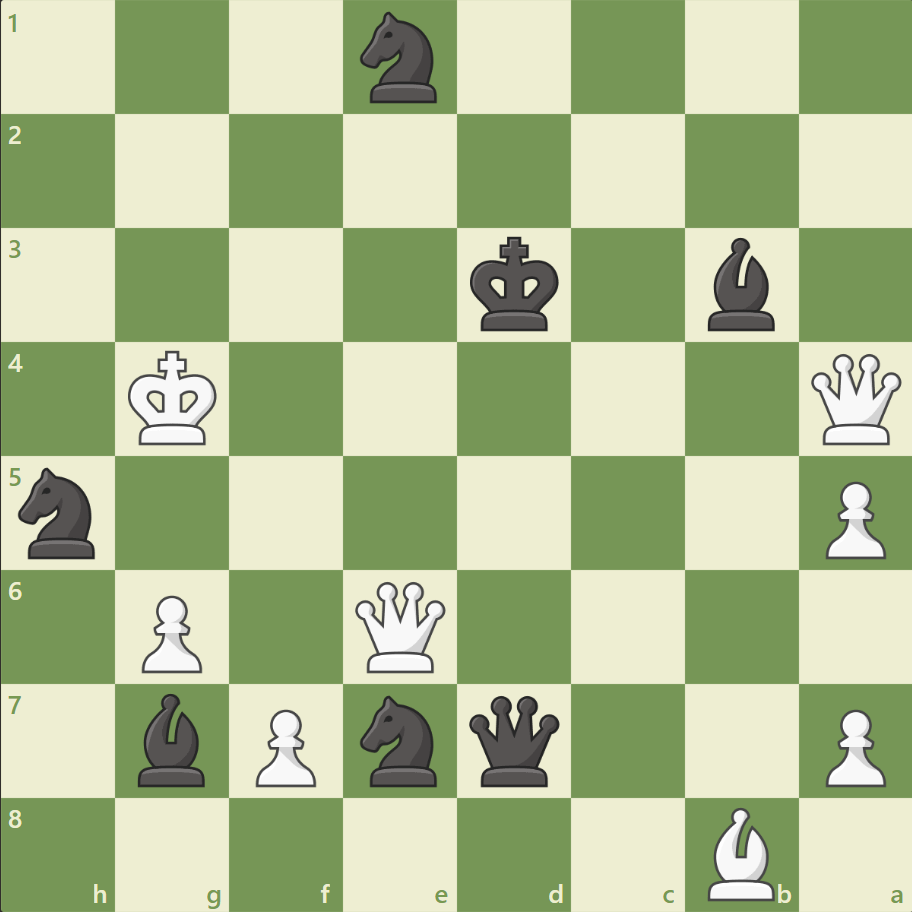B: (698, 801, 782, 904)
K: (124, 344, 224, 452)
P: (247, 700, 322, 791), (133, 586, 208, 677), (815, 700, 889, 791), (815, 473, 889, 564)
Q: (351, 576, 450, 676), (805, 349, 904, 449)
b: (131, 687, 215, 790), (698, 233, 782, 336)
k: (465, 231, 565, 339)
n: (351, 688, 449, 791), (351, 7, 449, 110), (11, 461, 108, 564)
q: (464, 690, 563, 789)
